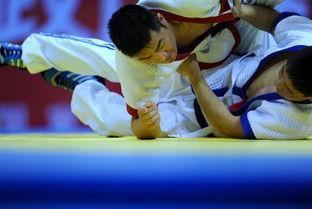Fall-Detected: (94, 1, 312, 139)
